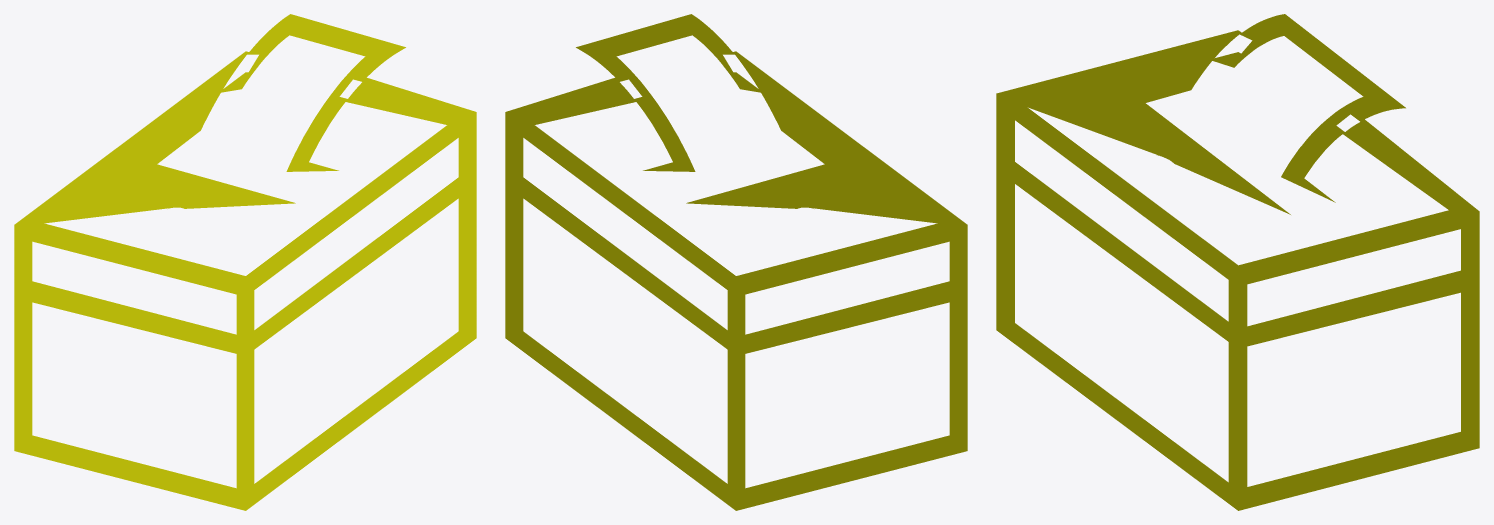
Rendered from Ballot_Box_with_Ballot.glb.
3 renders of one model, left to right at view 1: azimuth 30°, elevation 25°; view 2: azimuth 150°, elevation 25°; view 3: azimuth 330°, elevation 25°, orthographic. The views are drawn at different scales.
Parts seen in each view (by area): view 1: unnamed; view 2: unnamed; view 3: unnamed.
Part boxes in pixels (x1,y1,x2,y2): unnamed: [14, 14, 476, 510]; unnamed: [505, 14, 967, 510]; unnamed: [996, 14, 1479, 510].
Bounding box in the file's own units: 1.01 × 1.02 × 3.61e-06.
